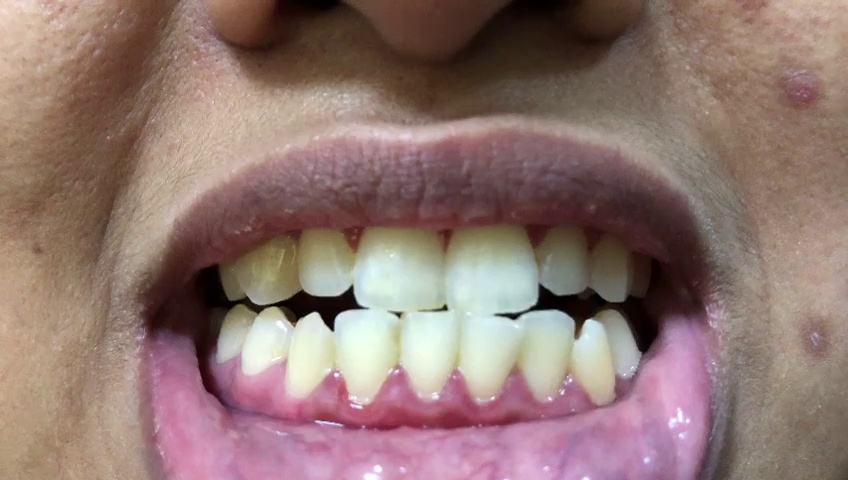1st Premolar: (243, 306, 290, 375), (602, 309, 643, 382)
2nd Premolar: (216, 305, 253, 368)
Canine: (234, 231, 298, 305), (286, 311, 333, 399), (574, 319, 618, 408), (593, 225, 631, 302)
Central Incisor: (444, 214, 541, 314), (352, 214, 444, 311), (399, 308, 459, 403), (462, 312, 521, 407)
Lateral Incisor: (336, 306, 396, 411), (519, 307, 576, 402), (296, 216, 354, 297), (535, 218, 593, 296)
